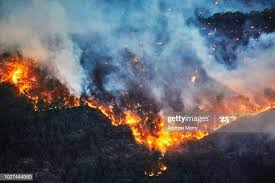fire: (91, 103, 149, 157), (4, 59, 30, 85)
smoke: (5, 7, 209, 55), (43, 58, 275, 95)
